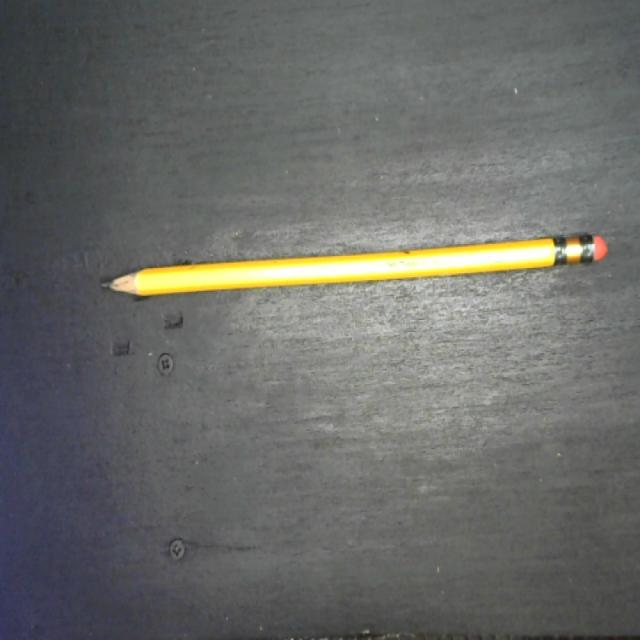biodegradable: (99, 228, 608, 304)
